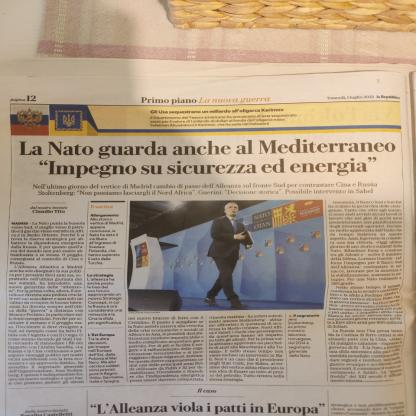immagine: (128, 200, 328, 313)
testo_col: (324, 199, 404, 387), (6, 220, 88, 390), (126, 314, 207, 386), (207, 315, 288, 387)
titolo: (12, 137, 400, 179)
